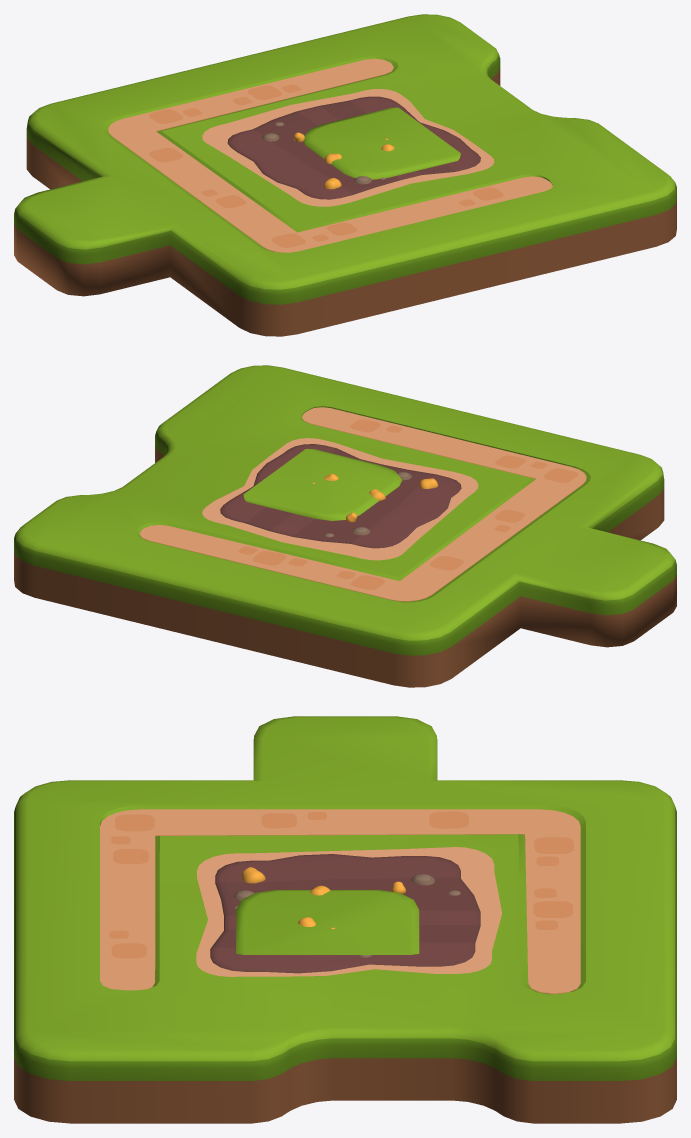
File: Floor.fbx
3 views of the same model, one above another, from view 1: azimuth 30°, elevation 25°; view 2: azimuth 150°, elevation 25°; view 3: azimuth 270°, elevation 25° (orthographic). The views are drawn at different scales.
Visible parts, largest first — view 1: Cube.007, Plane.006, Cube, Cube.001; view 2: Cube.007, Plane.006, Cube, Cube.001; view 3: Cube.007, Plane.006, Cube, Cube.001.
Boxes of the visible parts, box(x1,y1,x2,y2) form: Cube.007: box(14, 14, 676, 336); Plane.006: box(108, 58, 552, 252); Cube: box(227, 96, 480, 199); Cube.001: box(303, 107, 460, 179); Cube.007: box(14, 365, 676, 687); Plane.006: box(139, 407, 586, 600); Cube: box(220, 444, 461, 548); Cube.001: box(243, 449, 402, 520); Cube.007: box(14, 716, 676, 1123); Plane.006: box(100, 809, 580, 993); Cube: box(210, 854, 480, 973); Cube.001: box(236, 890, 419, 954).
Bounding box in the file's own units: 20.39 × 2.2 × 16.61.
